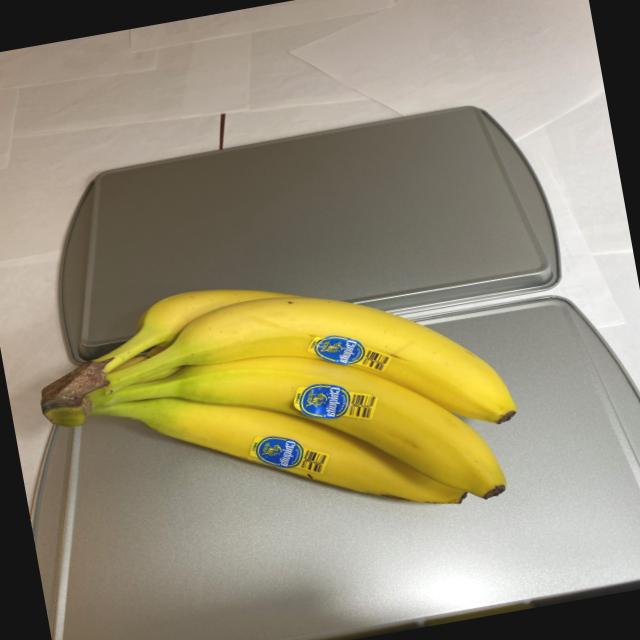banana: (13, 233, 534, 590)
